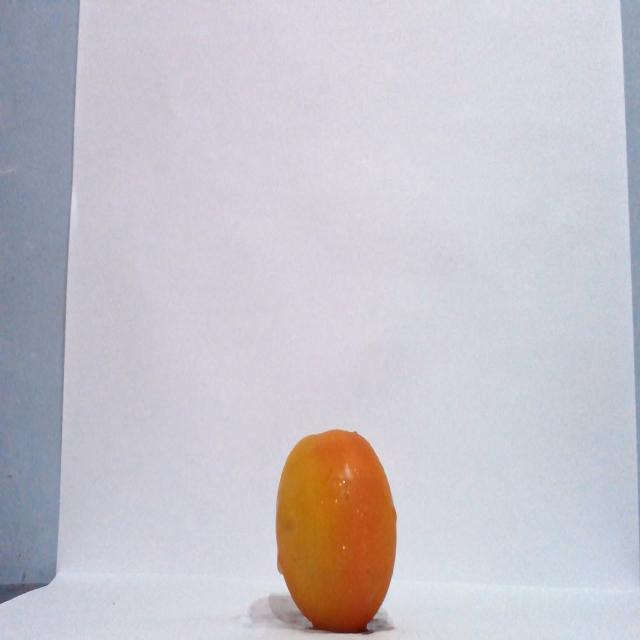Red: (273, 427, 398, 632)
